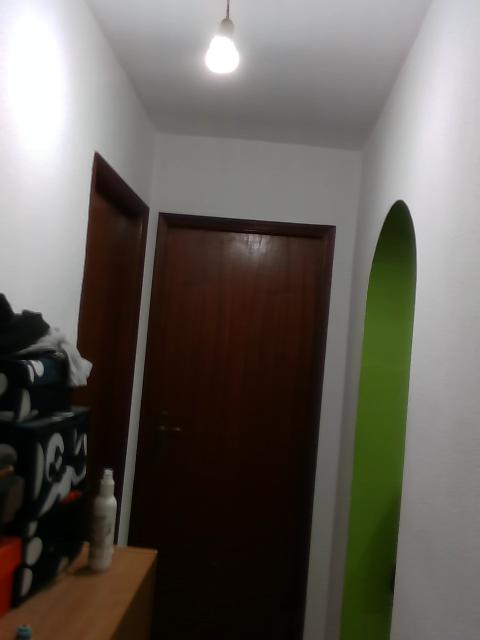door: (146, 225, 332, 640)
